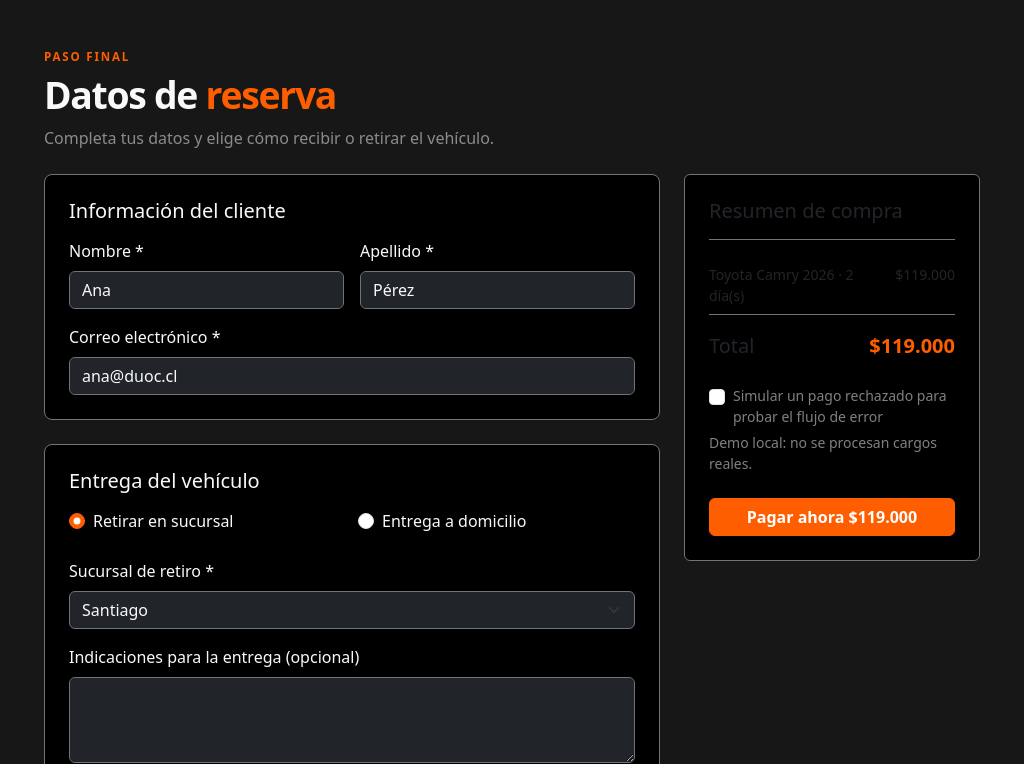
Test case: Checkout flow › switches delivery form based on selected option
The width and height of the screenshot is (1024, 764).
expect the dropdown labelled "Sucursal de retiro *" is shown: met, box x1=69 y1=591 x2=635 y2=629
Click the radio button labelled "Entrega a domicilio".
click(366, 521)  # box x1=358 y1=513 x2=374 y2=529
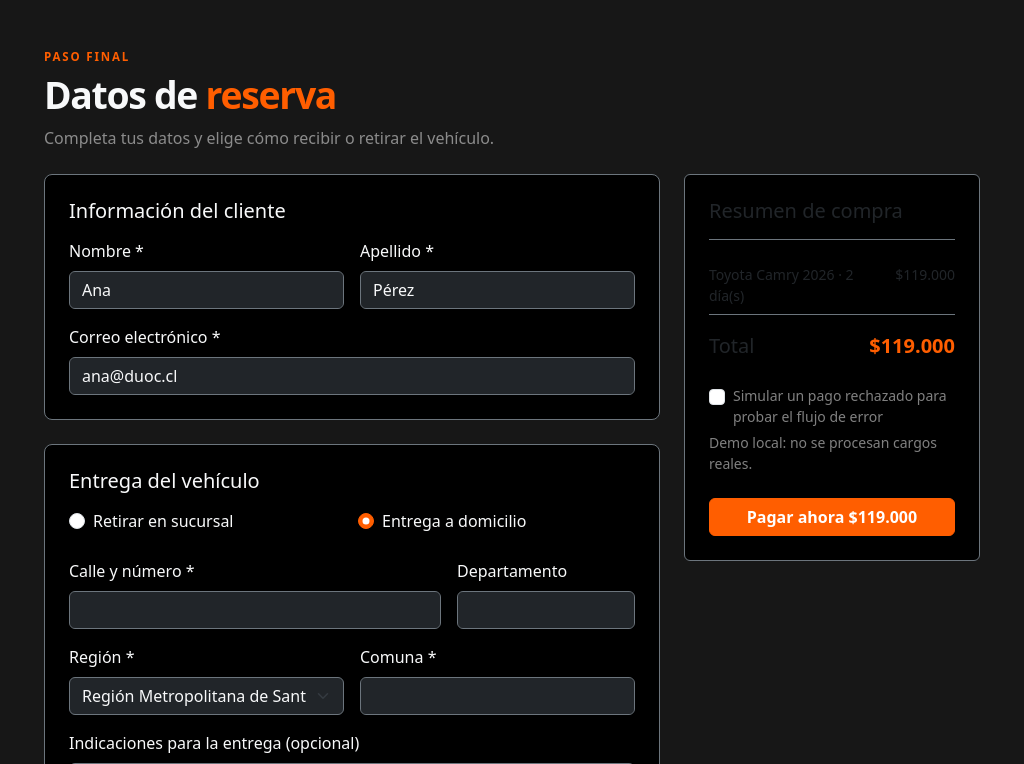
expect the field labelled "Calle y número *" is shown: met, box x1=69 y1=591 x2=441 y2=629
expect the field labelled "Comuna *" is shown: met, box x1=360 y1=677 x2=635 y2=715
